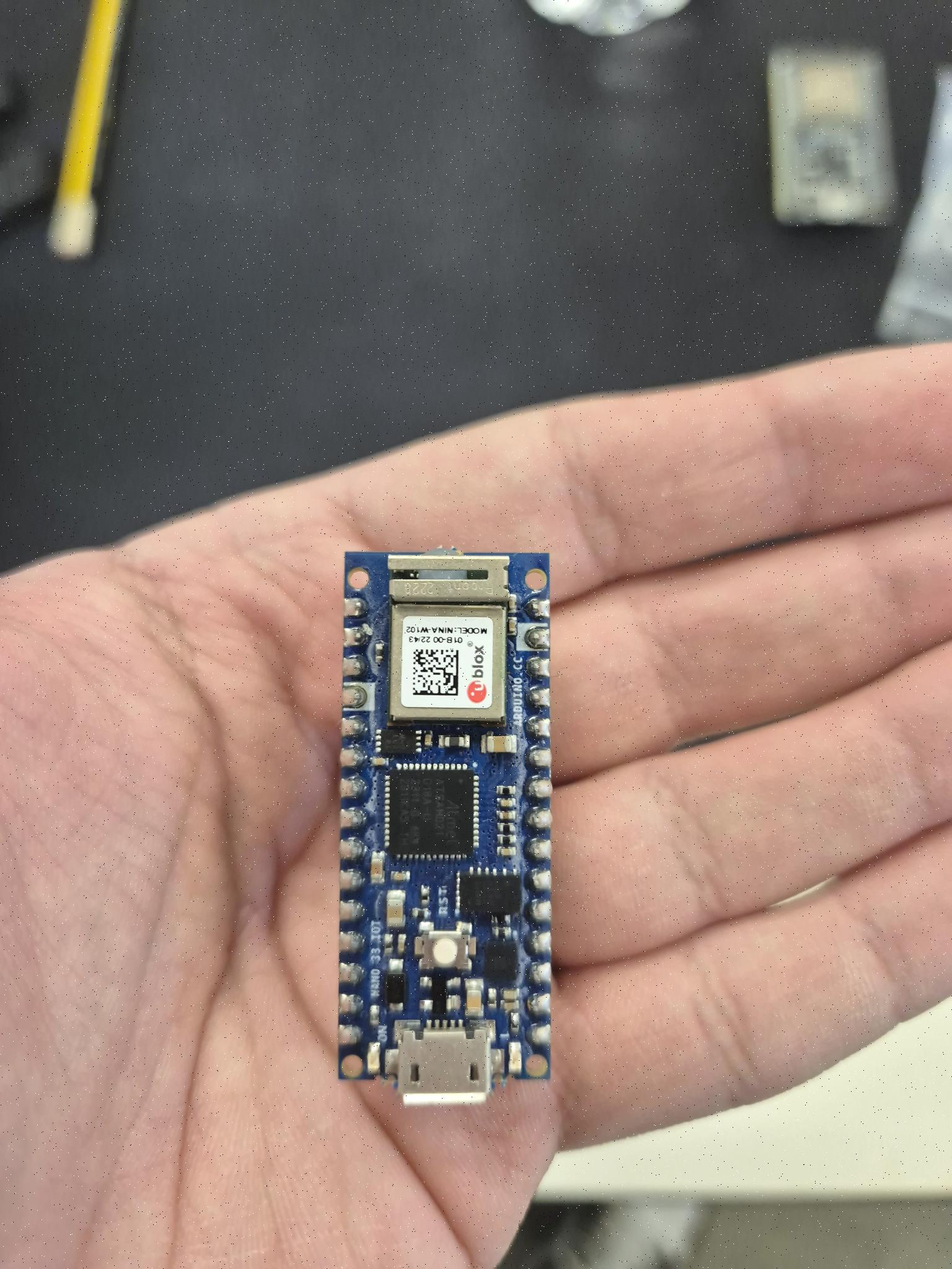arduino-nano-iot-33: (340, 547, 554, 1083)
